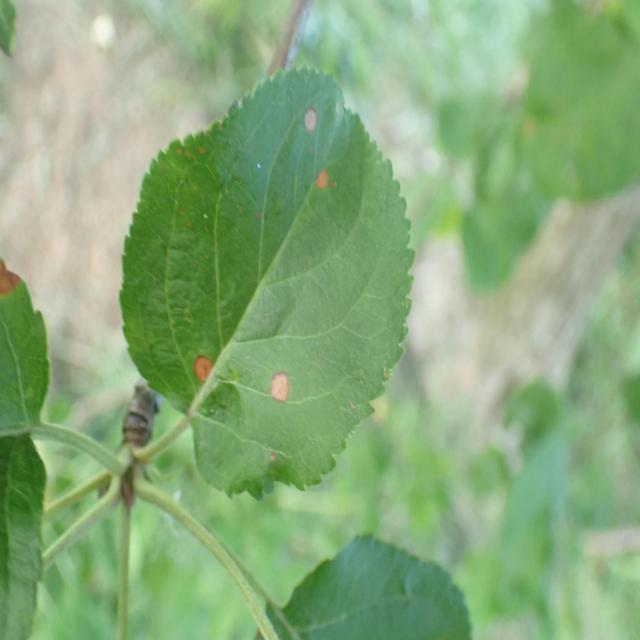Black Rot: (180, 342, 222, 404), (261, 358, 304, 413), (298, 88, 322, 151), (308, 158, 337, 198)
